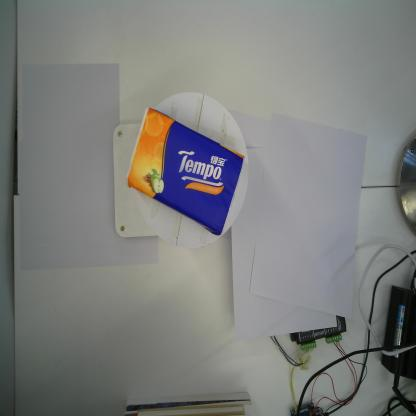Tissue: (124, 106, 244, 237)
